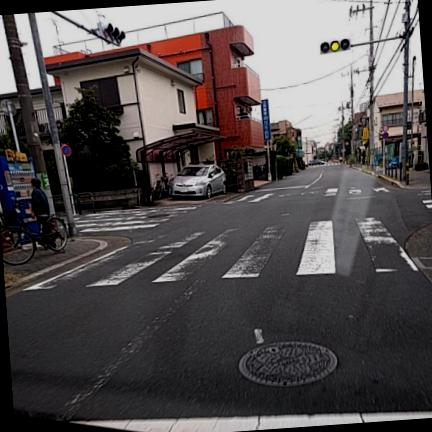Road: (6, 165, 431, 420)
